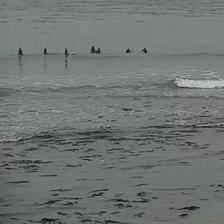surfer: (141, 47, 148, 53), (18, 48, 23, 56), (90, 45, 95, 52), (43, 48, 48, 54), (126, 48, 132, 53), (65, 48, 69, 54), (97, 47, 101, 53)
